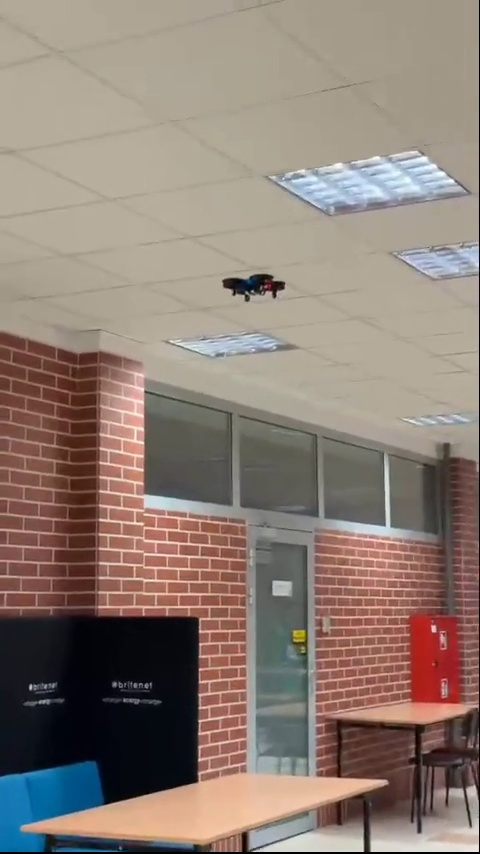drone: (221, 271, 287, 303)
